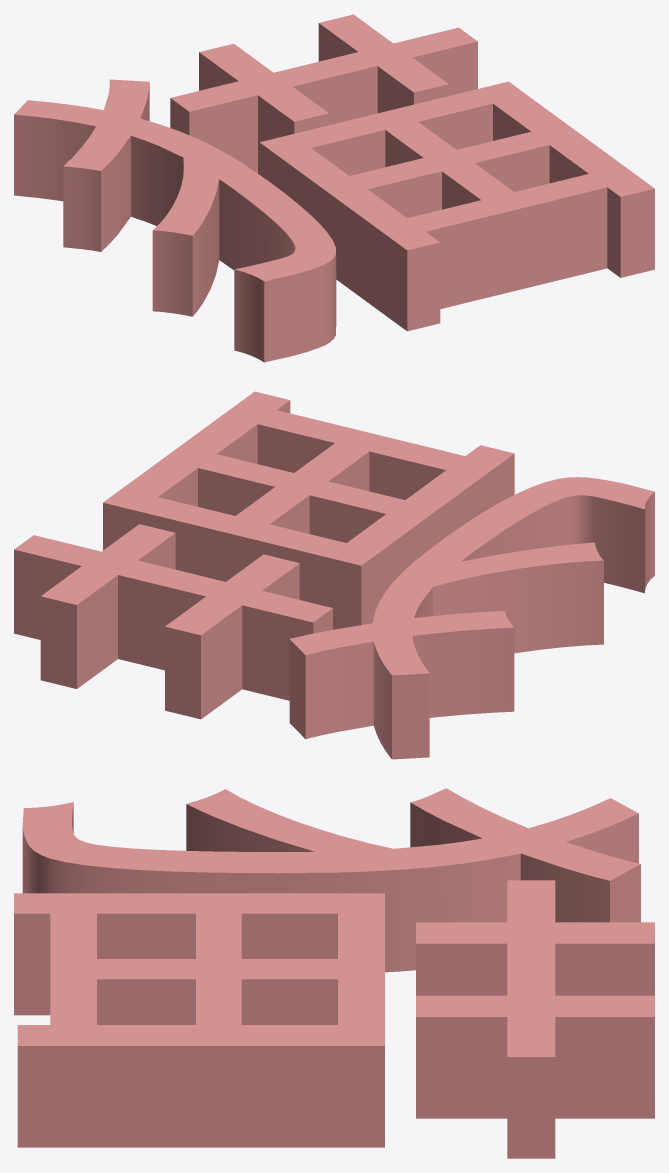
Rendered from asset.glb.
3 renders of one model, top to bottom at view 1: azimuth 30°, elevation 25°; view 2: azimuth 150°, elevation 25°; view 3: azimuth 270°, elevation 25°, orthographic. The views are drawn at different scales.
Parts seen in each view (by area): view 1: Body1, Body1.002, Body1.001; view 2: Body1.002, Body1, Body1.001; view 3: Body1, Body1.002, Body1.001.
Boxes of the visible parts, x1=… form: Body1: x1=259, y1=81, x2=654, y2=331; Body1.002: x1=14, y1=79, x2=336, y2=362; Body1.001: x1=170, y1=14, x2=477, y2=174; Body1.002: x1=289, y1=477, x2=654, y2=759; Body1: x1=103, y1=391, x2=514, y2=629; Body1.001: x1=14, y1=524, x2=332, y2=719; Body1: x1=14, y1=893, x2=384, y2=1147; Body1.002: x1=22, y1=788, x2=640, y2=972; Body1.001: x1=416, y1=880, x2=654, y2=1158.
Size of the model in its own units: 0.4813 by 0.085 by 0.485.
